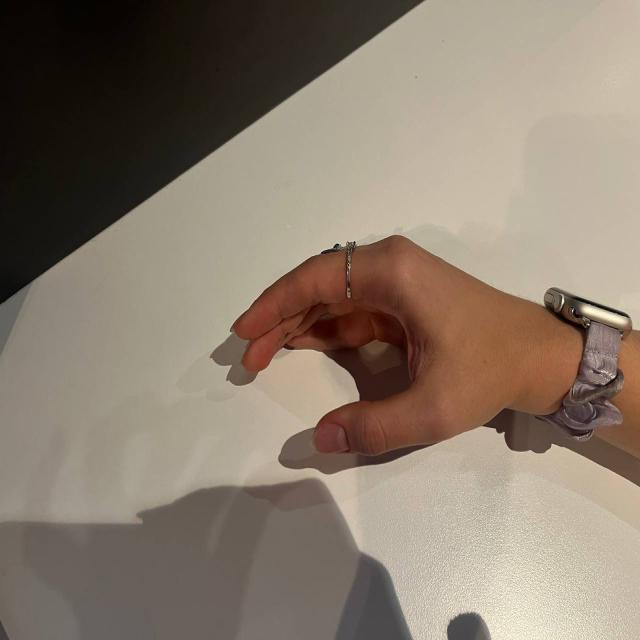s: (196, 214, 550, 474)
